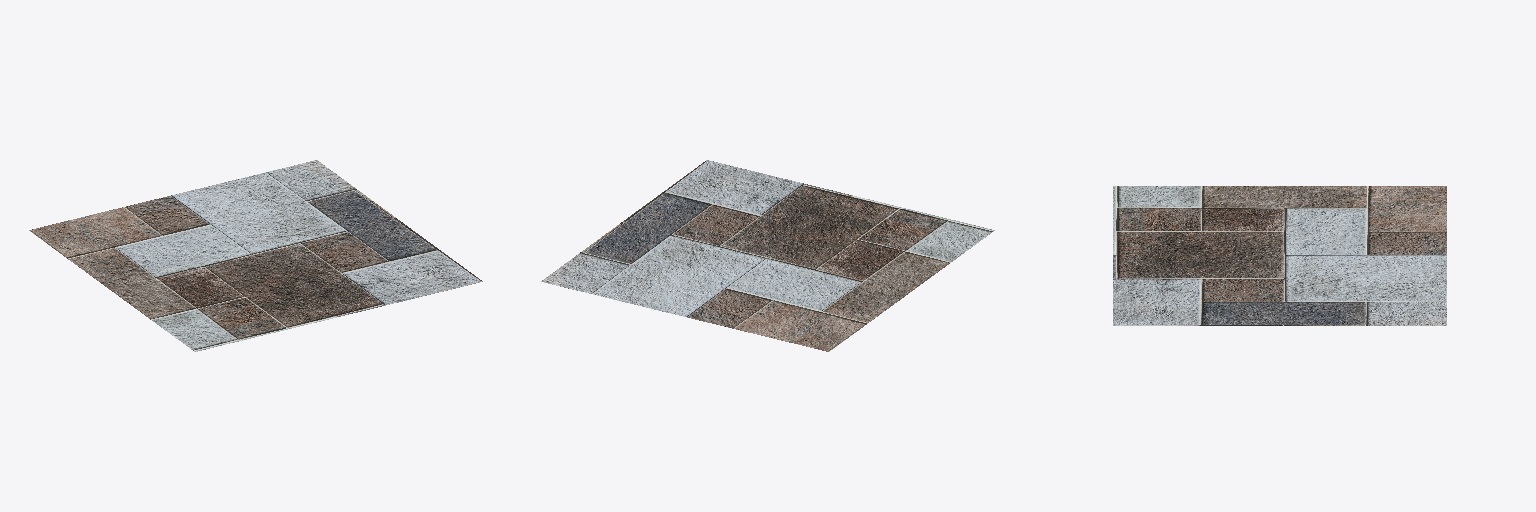
The picture shows the model from 3 angles: view 1: azimuth 30°, elevation 25°; view 2: azimuth 150°, elevation 25°; view 3: azimuth 270°, elevation 25°; orthographic projection.
Visible parts, largest first — view 1: Plane_Plane.001; view 2: Plane_Plane.001; view 3: Plane_Plane.001.
Boxes of the visible parts, box(x1,y1,x2,y2) form: Plane_Plane.001: box(29, 160, 482, 351); Plane_Plane.001: box(541, 160, 994, 351); Plane_Plane.001: box(1113, 186, 1446, 325).
Size of the model in its own units: 2 by 0 by 2.
1 materials, 1 textured.